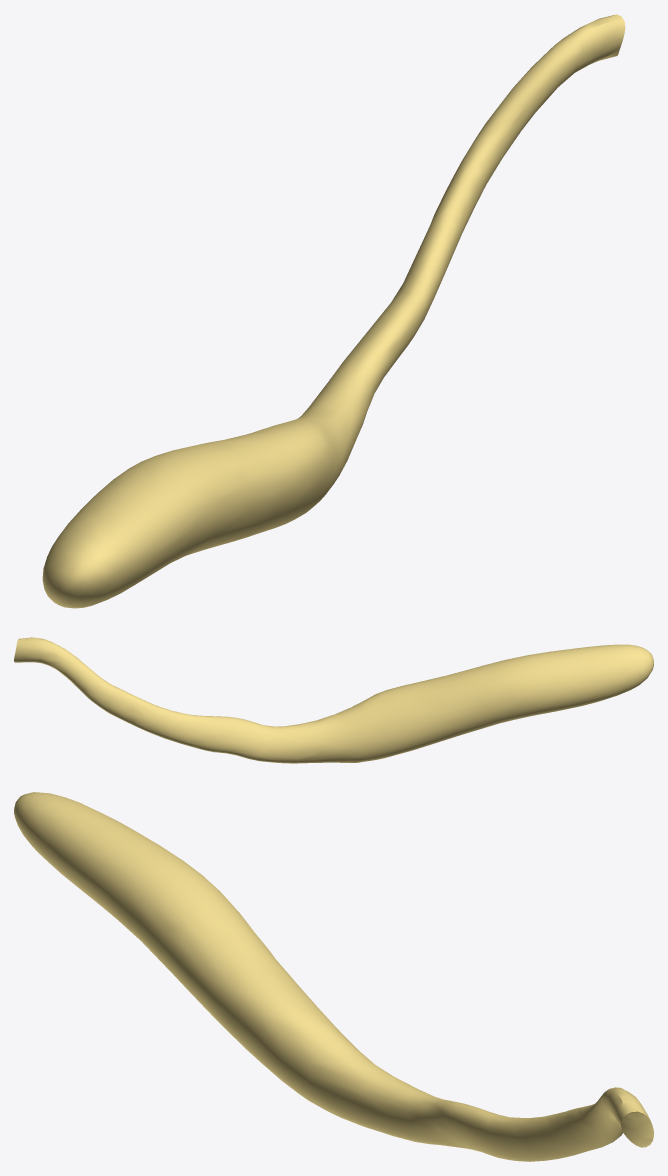
3 renders of one model, top to bottom at view 1: azimuth 30°, elevation 25°; view 2: azimuth 150°, elevation 25°; view 3: azimuth 270°, elevation 25°, orthographic. The views are drawn at different scales.
Parts seen in each view (by area): view 1: ZA_9e0926c7b4850f39; view 2: ZA_9e0926c7b4850f39; view 3: ZA_9e0926c7b4850f39.
Part boxes in pixels (<box>): ZA_9e0926c7b4850f39: <box>42,14,625,608</box>; ZA_9e0926c7b4850f39: <box>14,637,653,763</box>; ZA_9e0926c7b4850f39: <box>14,792,653,1161</box>.
Size of the model in its own units: 0.0333 by 0.00868 by 0.0236.
